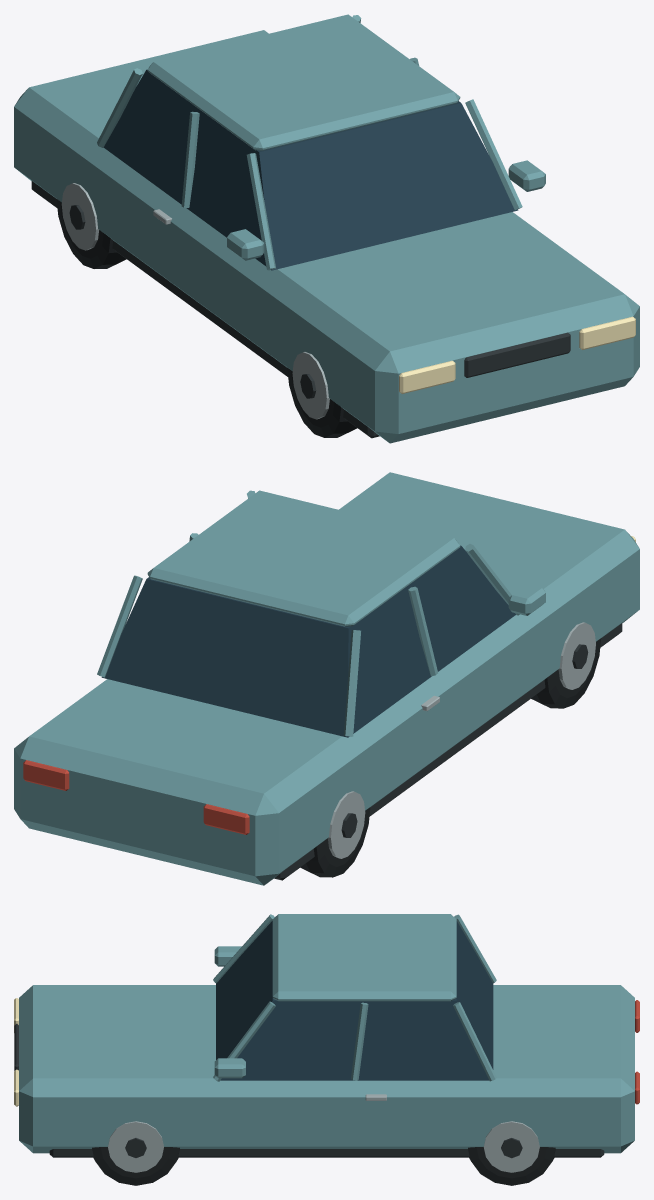
The model's file is car-compact-02.glb.
3 renders of one model, top to bottom at view 1: azimuth 30°, elevation 25°; view 2: azimuth 150°, elevation 25°; view 3: azimuth 270°, elevation 25°, orthographic. The views are drawn at different scales.
Visible parts, largest first — view 1: Body, Glass, Roof, FrontGrille, Sill, Rim_FR, Rim_RR, Tyre_FR, Tyre_RR, Lamp_Head.001, Lamp_Head, WindowPillar (+5 smaller); view 2: Body, Glass, Roof, Sill, Rim_RR, Rim_FR, Tyre_RR, Tyre_FR, WindowPillar.002, WindowPillar.005, Lamp_Tail.001, Lamp_Tail (+3 smaller); view 3: Body, Glass, Roof, Sill, Rim_RL, Rim_FL, Tyre_FL, Tyre_RL, WindowPillar.005, WindowPillar.004, Mirror.001, WindowPillar.003 (+2 smaller).
Part boxes in pixels (x1,y1,x2,y2): Body: [14, 30, 639, 443]; Glass: [103, 69, 518, 270]; Roof: [147, 14, 460, 150]; FrontGrille: [464, 332, 570, 377]; Sill: [31, 181, 379, 438]; Rim_FR: [292, 352, 329, 419]; Rim_RR: [61, 183, 98, 250]; Tyre_FR: [287, 368, 357, 437]; Tyre_RR: [56, 199, 126, 268]; Lamp_Head.001: [579, 316, 635, 349]; Lamp_Head: [399, 360, 455, 393]; WindowPillar: [246, 153, 275, 270]; Body: [14, 472, 639, 885]; Glass: [101, 545, 515, 737]; Roof: [147, 490, 460, 626]; Sill: [274, 623, 622, 880]; Rim_RR: [328, 791, 365, 858]; Rim_FR: [558, 622, 595, 689]; Tyre_RR: [300, 807, 370, 877]; Tyre_FR: [531, 638, 601, 708]; WindowPillar.002: [343, 630, 360, 736]; WindowPillar.005: [97, 575, 142, 677]; Lamp_Tail.001: [23, 760, 69, 790]; Lamp_Tail: [203, 804, 249, 834]; Body: [19, 985, 634, 1153]; Glass: [216, 921, 493, 1080]; Roof: [272, 914, 456, 1001]; Sill: [49, 1149, 604, 1157]; Rim_RL: [483, 1121, 539, 1172]; Rim_FL: [108, 1121, 163, 1172]; Tyre_FL: [92, 1147, 179, 1185]; Tyre_RL: [468, 1147, 555, 1185]; WindowPillar.005: [453, 1002, 496, 1081]; WindowPillar.004: [351, 1002, 368, 1080]; Mirror.001: [214, 1058, 245, 1078]; WindowPillar.003: [213, 1001, 275, 1081].
Bounding box in the file's own units: 2.02 × 1.43 × 4.42.
